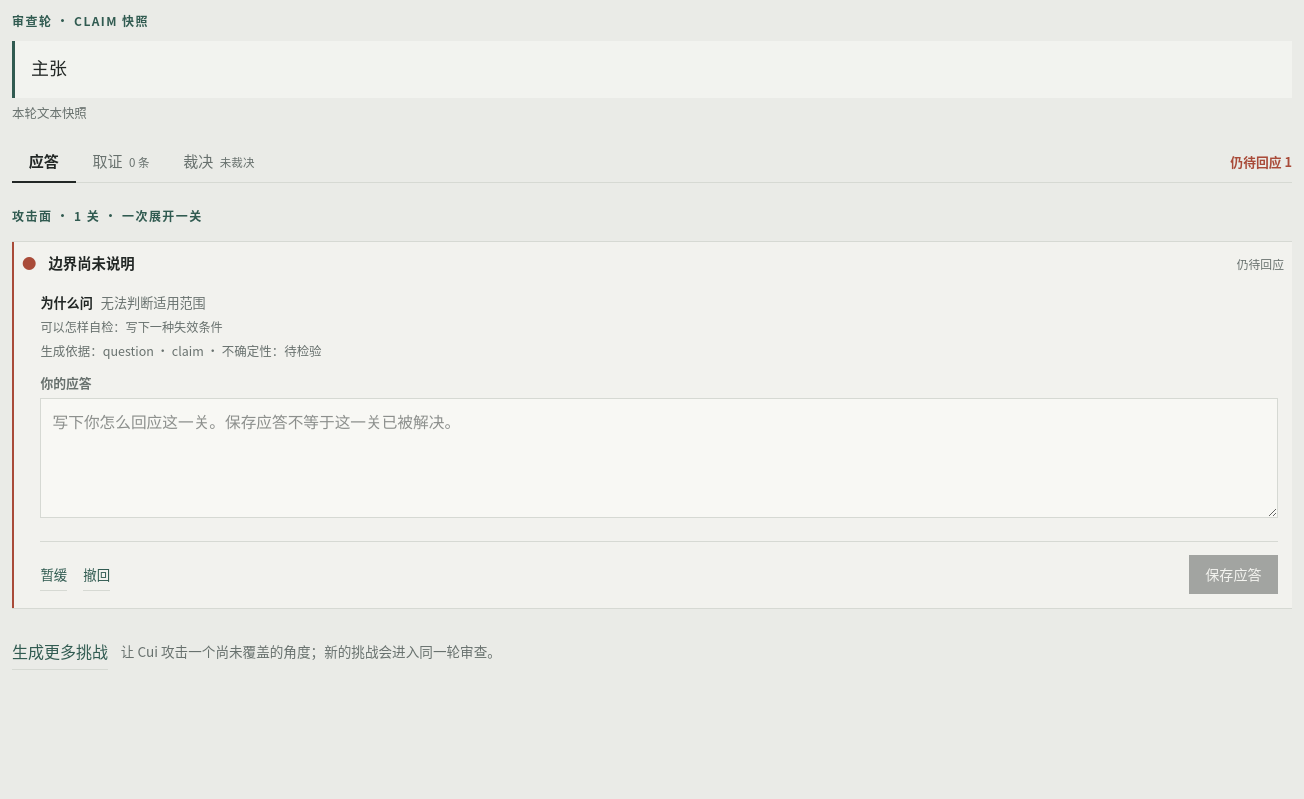
Test: ReviewRoundDesk review lifecycle › saves an answer, keeps the challenge open, and shows the saved reply
The width and height of the screenshot is (1304, 799).
Check: the text "边界尚未说明" is shown, box [48,252,135,273]
Type "my reply" into the text box labelled "你的应答". click: (659, 458)
box: [40,398,1278,518]
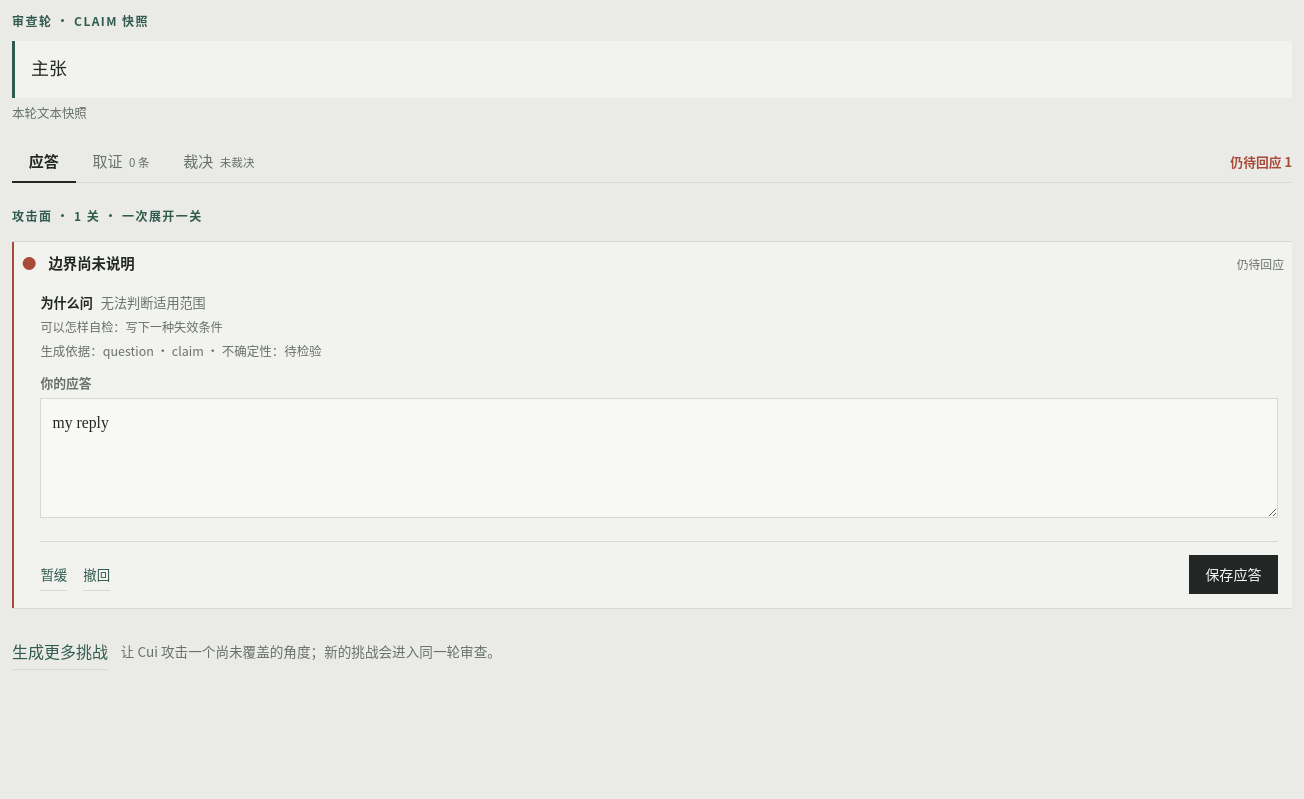
Click the button "保存应答". click: (1233, 575)
box: [1189,555,1278,594]
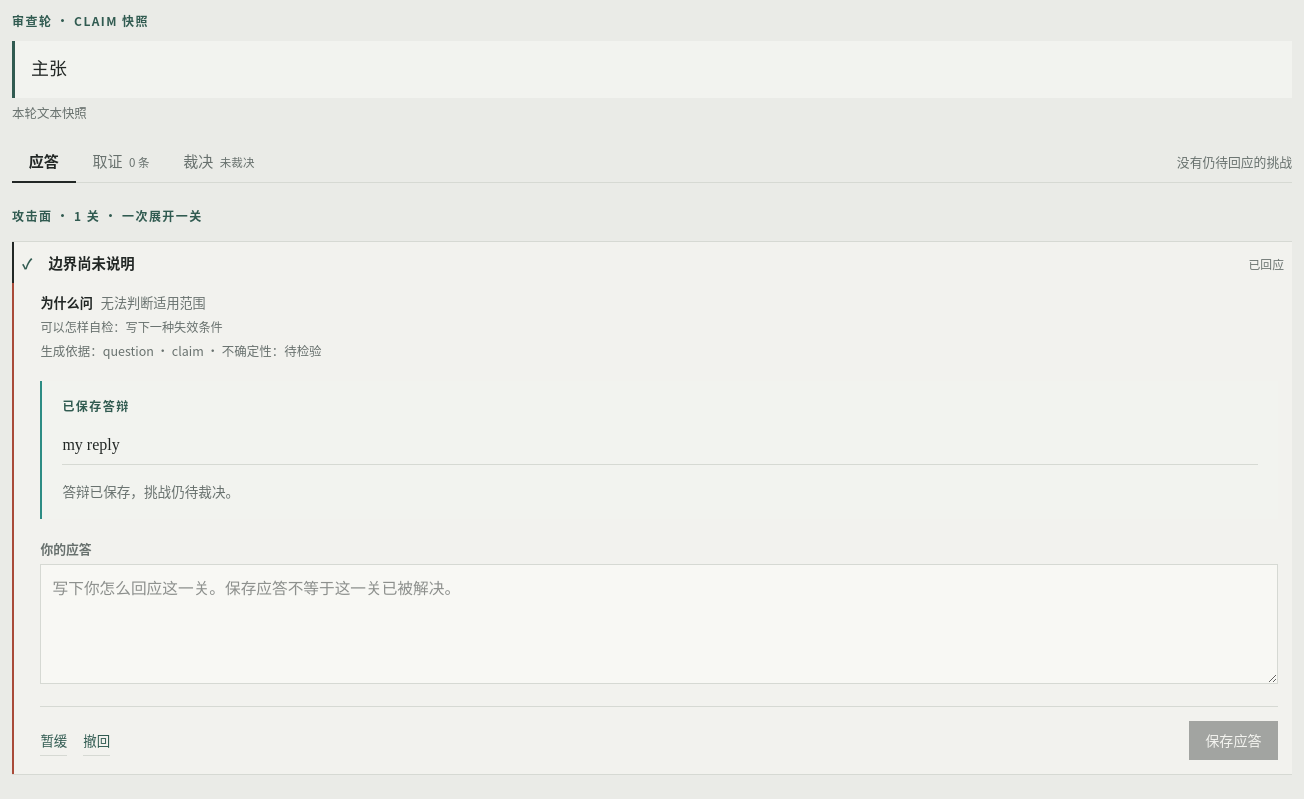
Check: the text "my reply" is shown, box [62,436,120,452]
Check: the text "答辩已保存，挑战仍待裁决。" is shown, box [62,464,1258,503]
